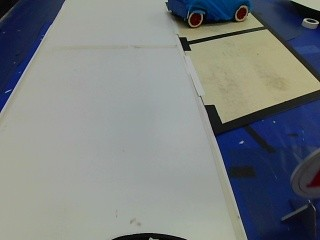car: (162, 0, 252, 30)
